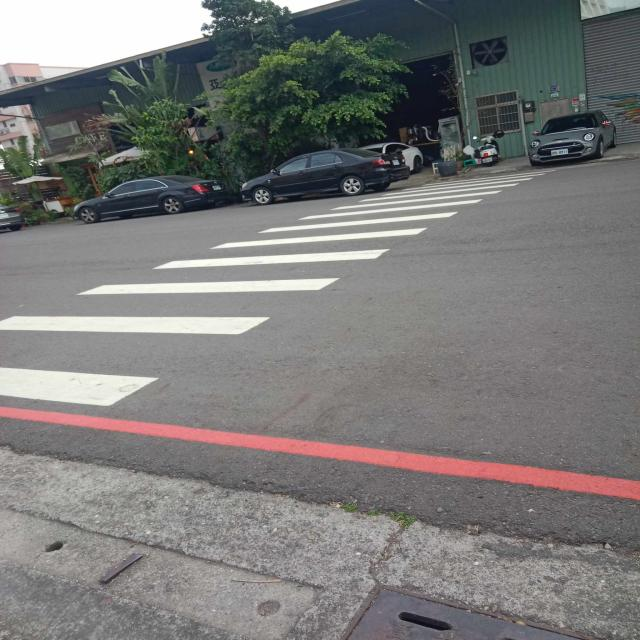zebra crossing: (0, 175, 543, 405)
